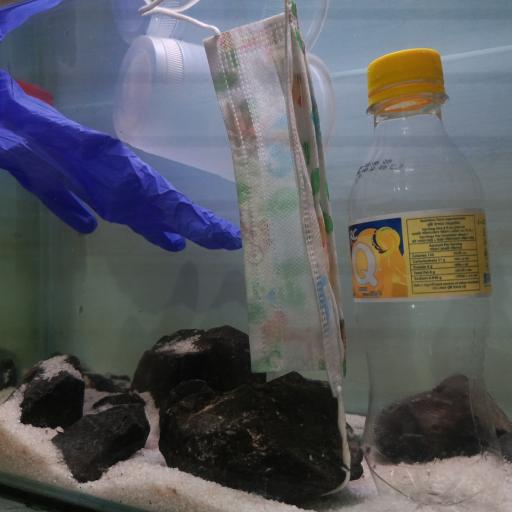bottle_cap: (365, 48, 446, 89)
glove: (0, 69, 243, 254)
mask: (139, 1, 350, 432)
plastic_bottle: (349, 49, 512, 512)
plastic_cup: (114, 34, 335, 185)
plastic_straw: (13, 78, 55, 107)
